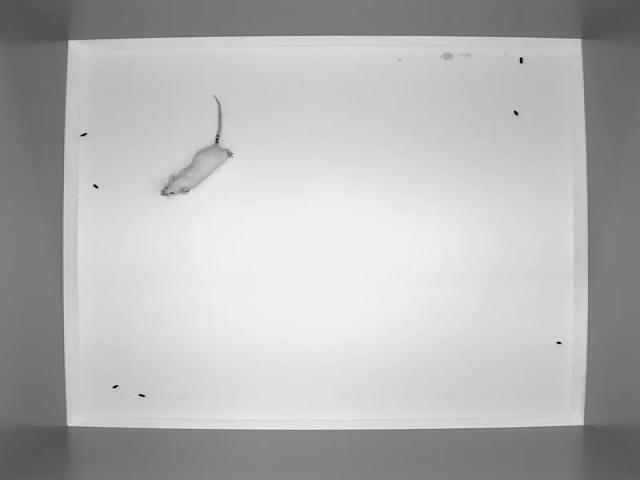Tikus: (158, 92, 249, 202)
